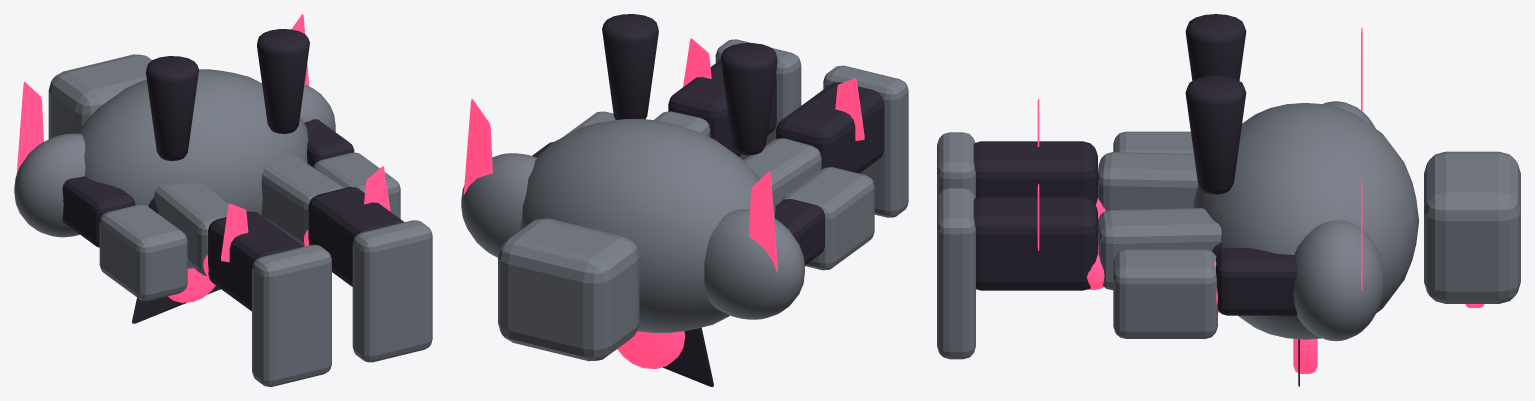
File: chaser_enemy.glb
3 renders of one model, left to right at view 1: azimuth 30°, elevation 25°; view 2: azimuth 150°, elevation 25°; view 3: azimuth 270°, elevation 25°, orthographic. The views are drawn at different scales.
Parts seen in each view (by area): view 1: torso, foot.001, foot, forearm, shoulder-shell, head, lower-leg.001, enemy-thruster.001, enemy-thruster, lower-leg, upper-leg.001, upper-leg (+9 smaller); view 2: torso, head, shoulder-shell, lower-leg, forearm, foot, enemy-thruster, shoulder-shell.001, enemy-thruster.001, lower-leg.001, upper-leg, upper-arm (+8 smaller); view 3: torso, head, lower-leg.001, forearm.001, shoulder-shell.001, lower-leg, foot.001, enemy-thruster.001, upper-leg, upper-leg.001, upper-arm.001, enemy-thruster (+3 smaller).
Part boxes in pixels (<box>): torso: <box>78,69,308,268</box>; foot.001: <box>352,220,432,362</box>; foot: <box>252,244,331,386</box>; forearm: <box>99,204,187,300</box>; shoulder-shell: <box>14,133,85,237</box>; head: <box>48,54,151,138</box>; lower-leg.001: <box>308,187,403,286</box>; enemy-thruster.001: <box>257,29,309,133</box>; enemy-thruster: <box>146,56,198,160</box>; lower-leg: <box>208,211,303,311</box>; upper-leg.001: <box>261,154,343,246</box>; upper-leg: <box>154,182,228,275</box>; torso: <box>520,119,775,332</box>; head: <box>498,218,639,361</box>; shoulder-shell: <box>704,209,804,319</box>; lower-leg: <box>776,82,884,173</box>; forearm: <box>782,167,874,270</box>; foot: <box>823,65,908,217</box>; enemy-thruster: <box>720,43,777,155</box>; shoulder-shell.001: <box>461,153,536,257</box>; enemy-thruster.001: <box>602,14,658,119</box>; lower-leg.001: <box>668,60,776,156</box>; upper-leg: <box>743,138,821,205</box>; upper-arm: <box>775,199,824,264</box>; torso: <box>1193,103,1419,339</box>; head: <box>1424,151,1520,303</box>; lower-leg.001: <box>973,197,1097,290</box>; forearm.001: <box>1113,249,1217,338</box>; shoulder-shell.001: <box>1293,220,1384,341</box>; lower-leg: <box>973,141,1097,204</box>; foot.001: <box>937,188,975,359</box>; enemy-thruster.001: <box>1185,75,1246,194</box>; upper-leg: <box>1098,152,1198,210</box>; upper-leg.001: <box>1098,208,1221,290</box>; upper-arm.001: <box>1216,248,1297,315</box>; enemy-thruster: <box>1185,14,1246,80</box>.
Bounding box in the file's own units: 1.7 × 1.48 × 2.41.
